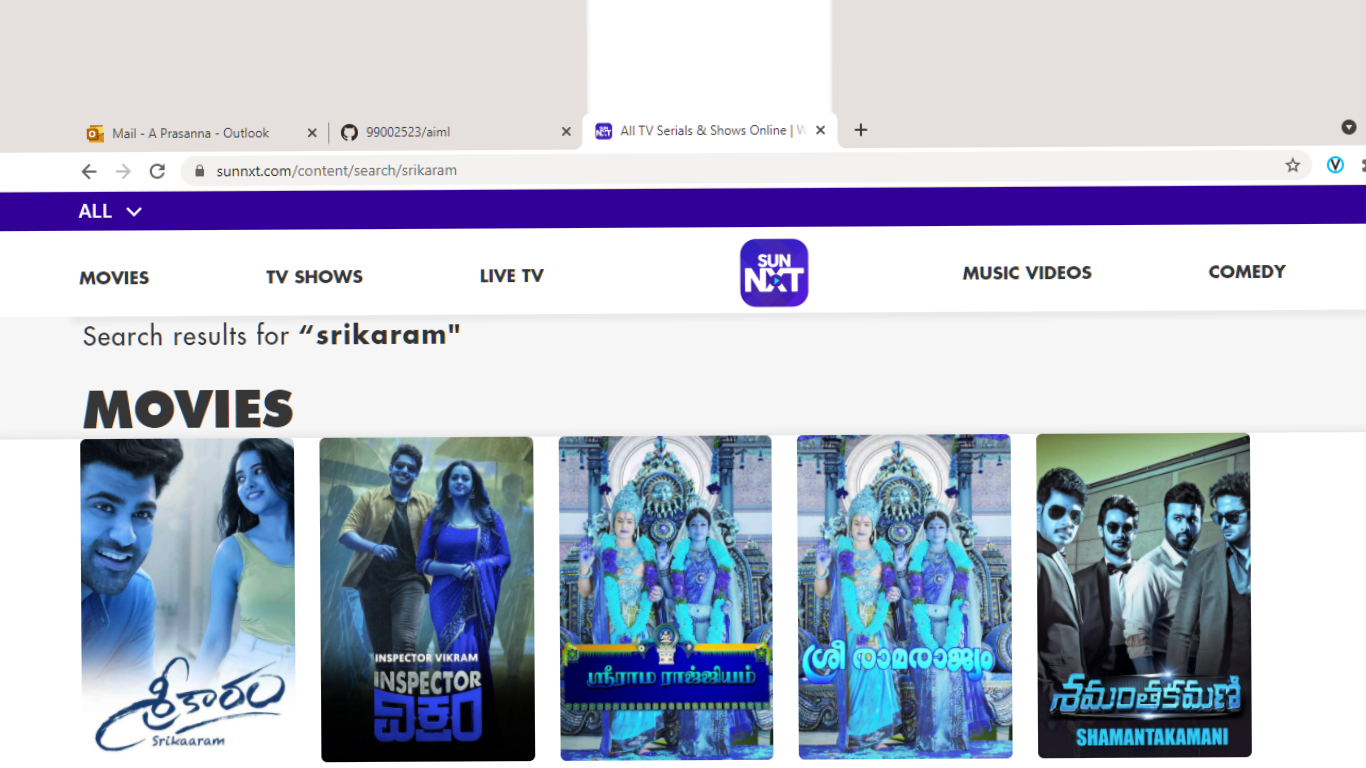resultsfound: (77, 317, 481, 368)
